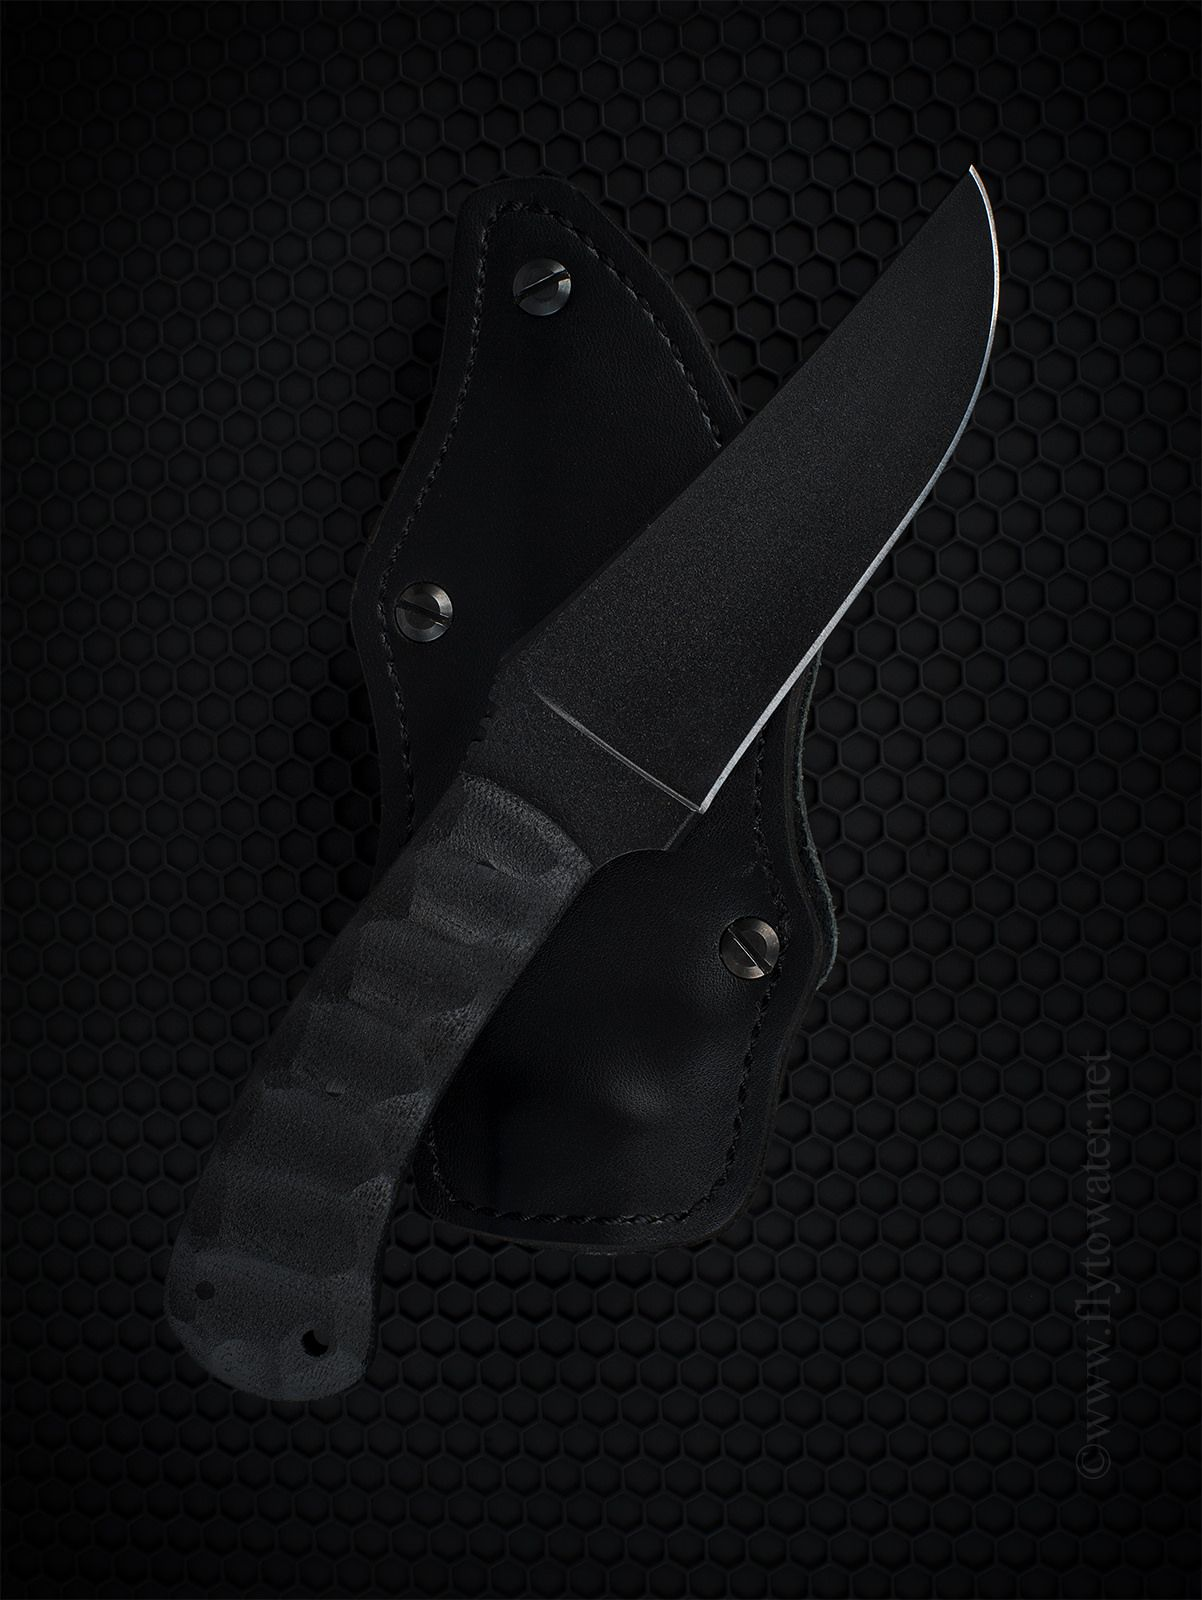knife: (157, 150, 1045, 1408)
